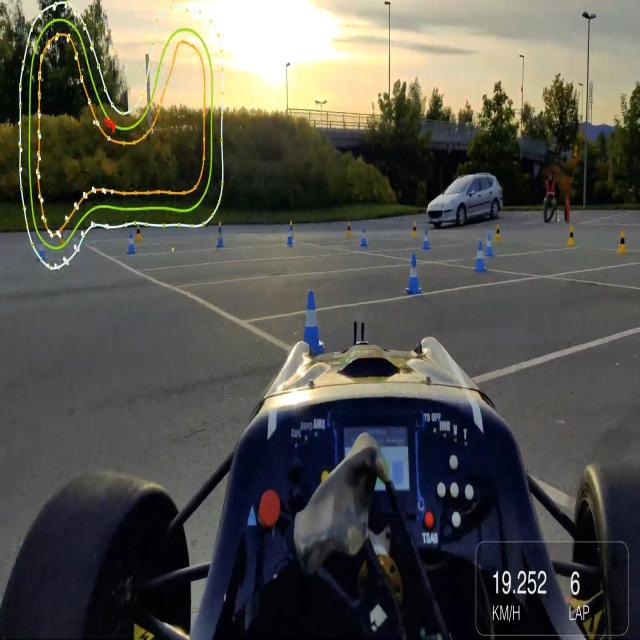blue_cone: (292, 278, 326, 352), (401, 244, 431, 304), (466, 230, 487, 279)
